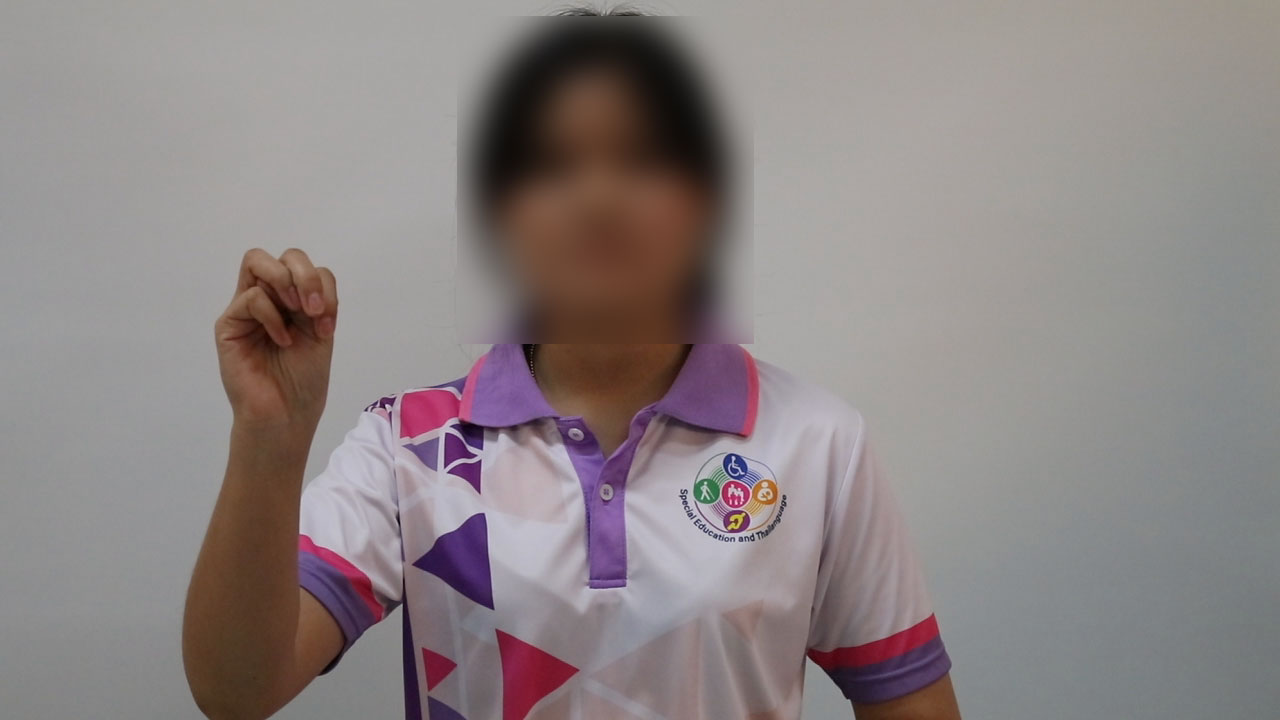mor: (206, 216, 357, 448)
